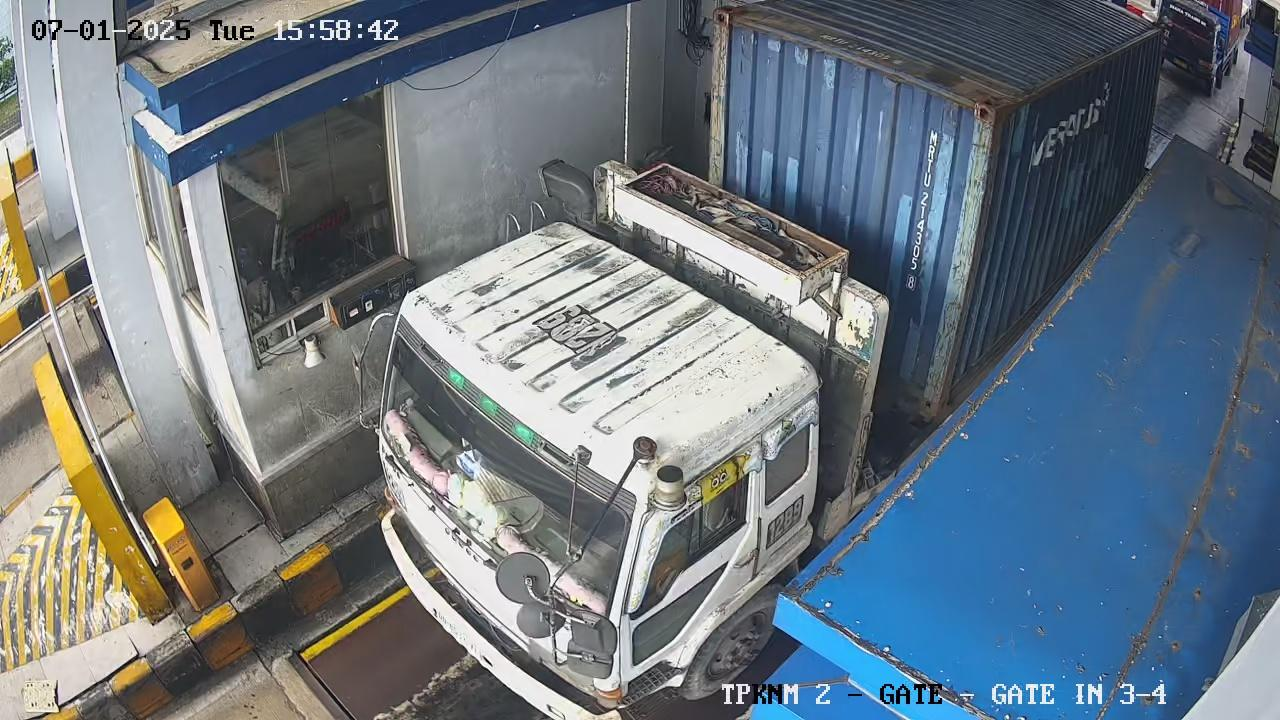Container_ID_Vertikal: (901, 129, 942, 292)
truck_id: (524, 281, 633, 372), (764, 495, 807, 549)
